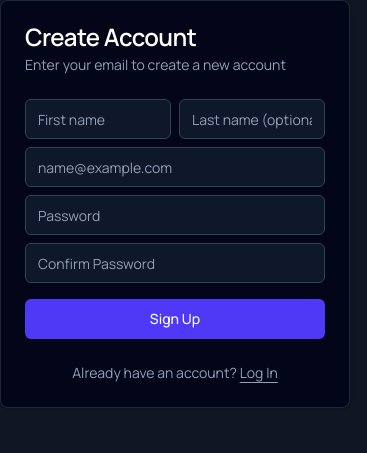
Test case: RegisterForm › warns if automatic login fails
In the field with placeholder "First name": (98, 119) [25,99,171,139], type "Ana"
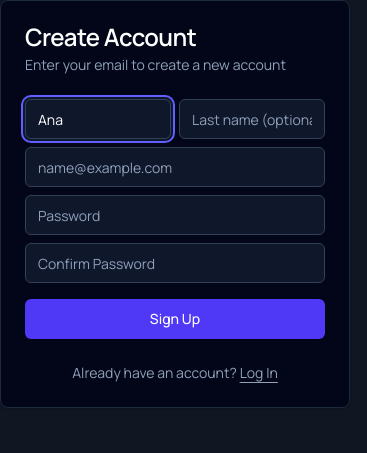
In the field with placeholder "name@example.com": (175, 167) [25,147,325,187], type "ana@example.com"
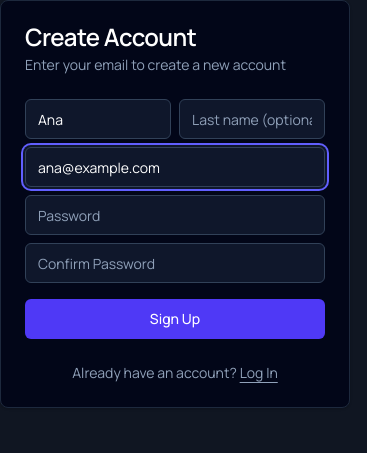
In the password field with placeholder "Password": (175, 215) [25,195,325,235], type "long-password-123"
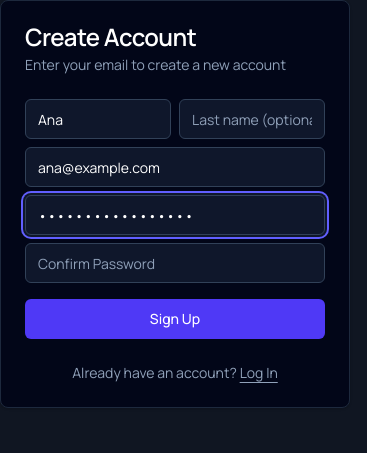
In the password field with placeholder "Confirm Password": (175, 263) [25,243,325,283], type "long-password-123"
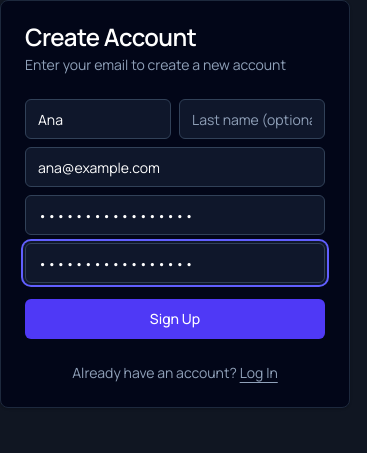
Click the button "Sign Up": (175, 319) [25,299,325,339]
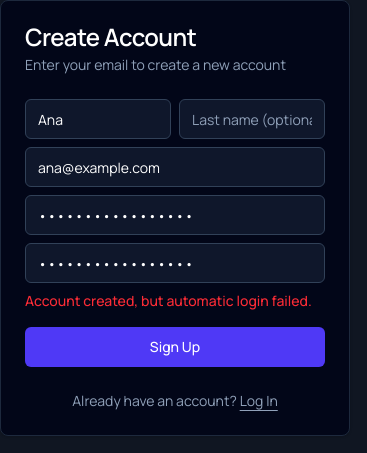
Now the text "Account created, but automatic login failed." is shown, box [25,291,325,311]
